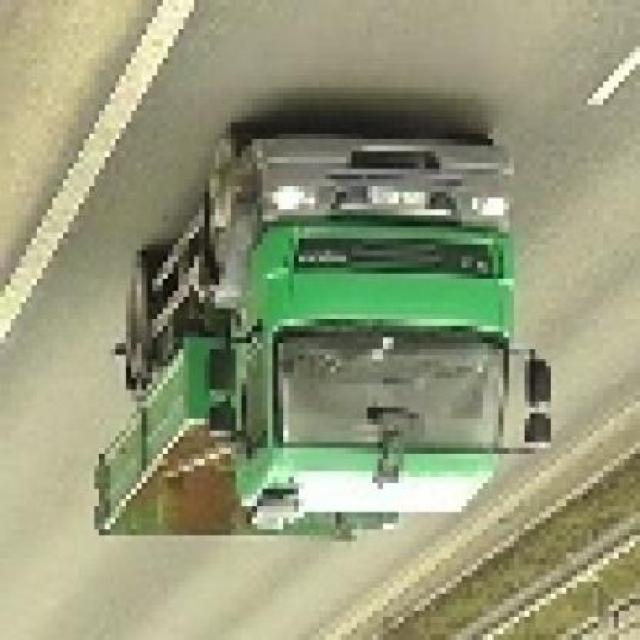truck: (101, 129, 556, 560)
